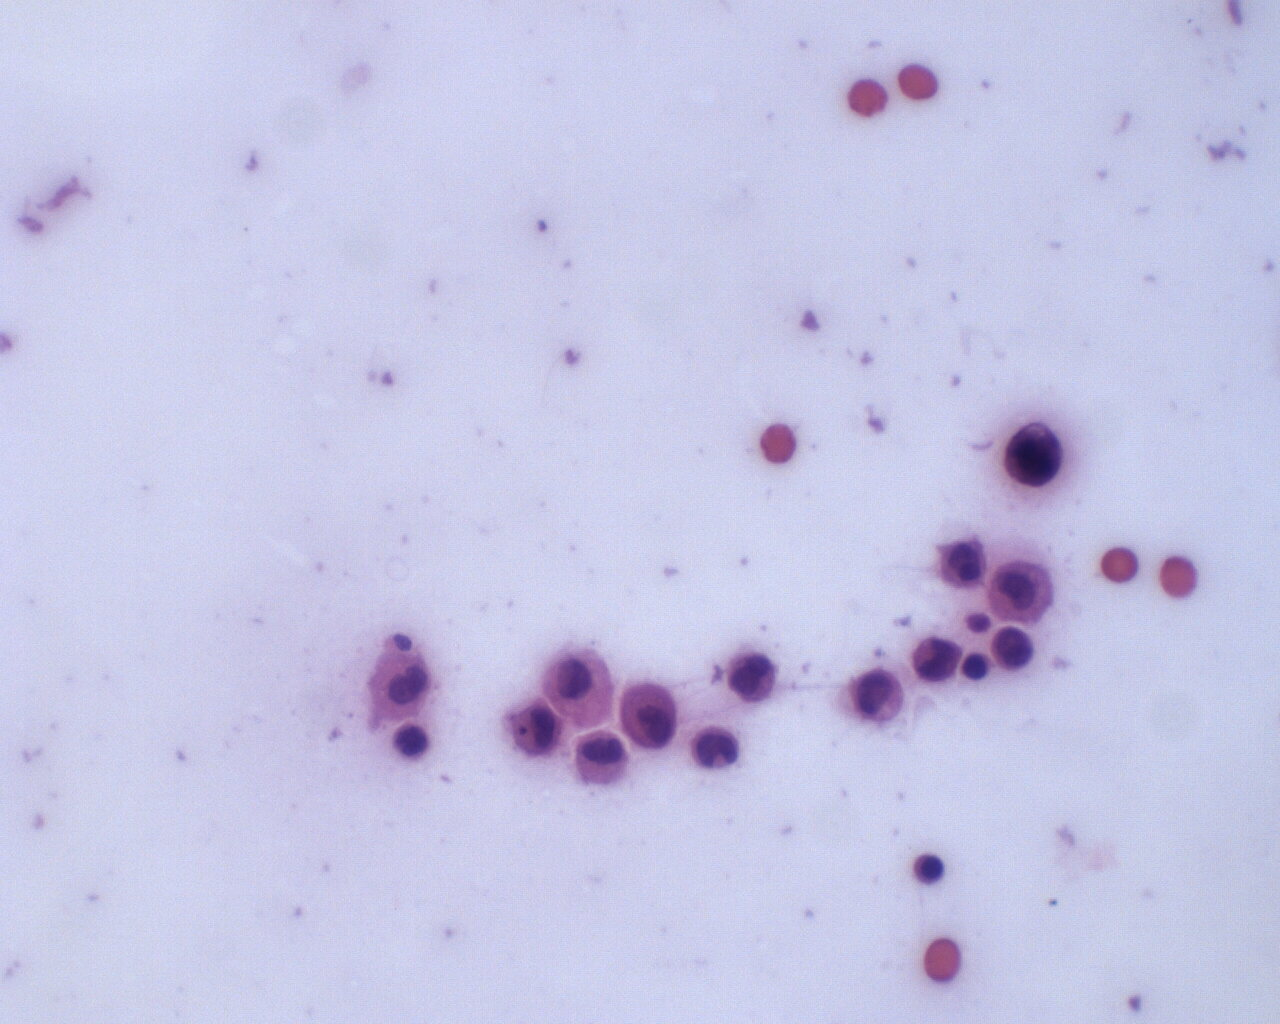ab: (1000, 415, 1071, 493), (727, 648, 781, 707), (937, 535, 990, 591), (913, 634, 962, 685), (991, 623, 1040, 673)
lymph: (914, 852, 947, 886)
meso: (542, 647, 615, 726)
